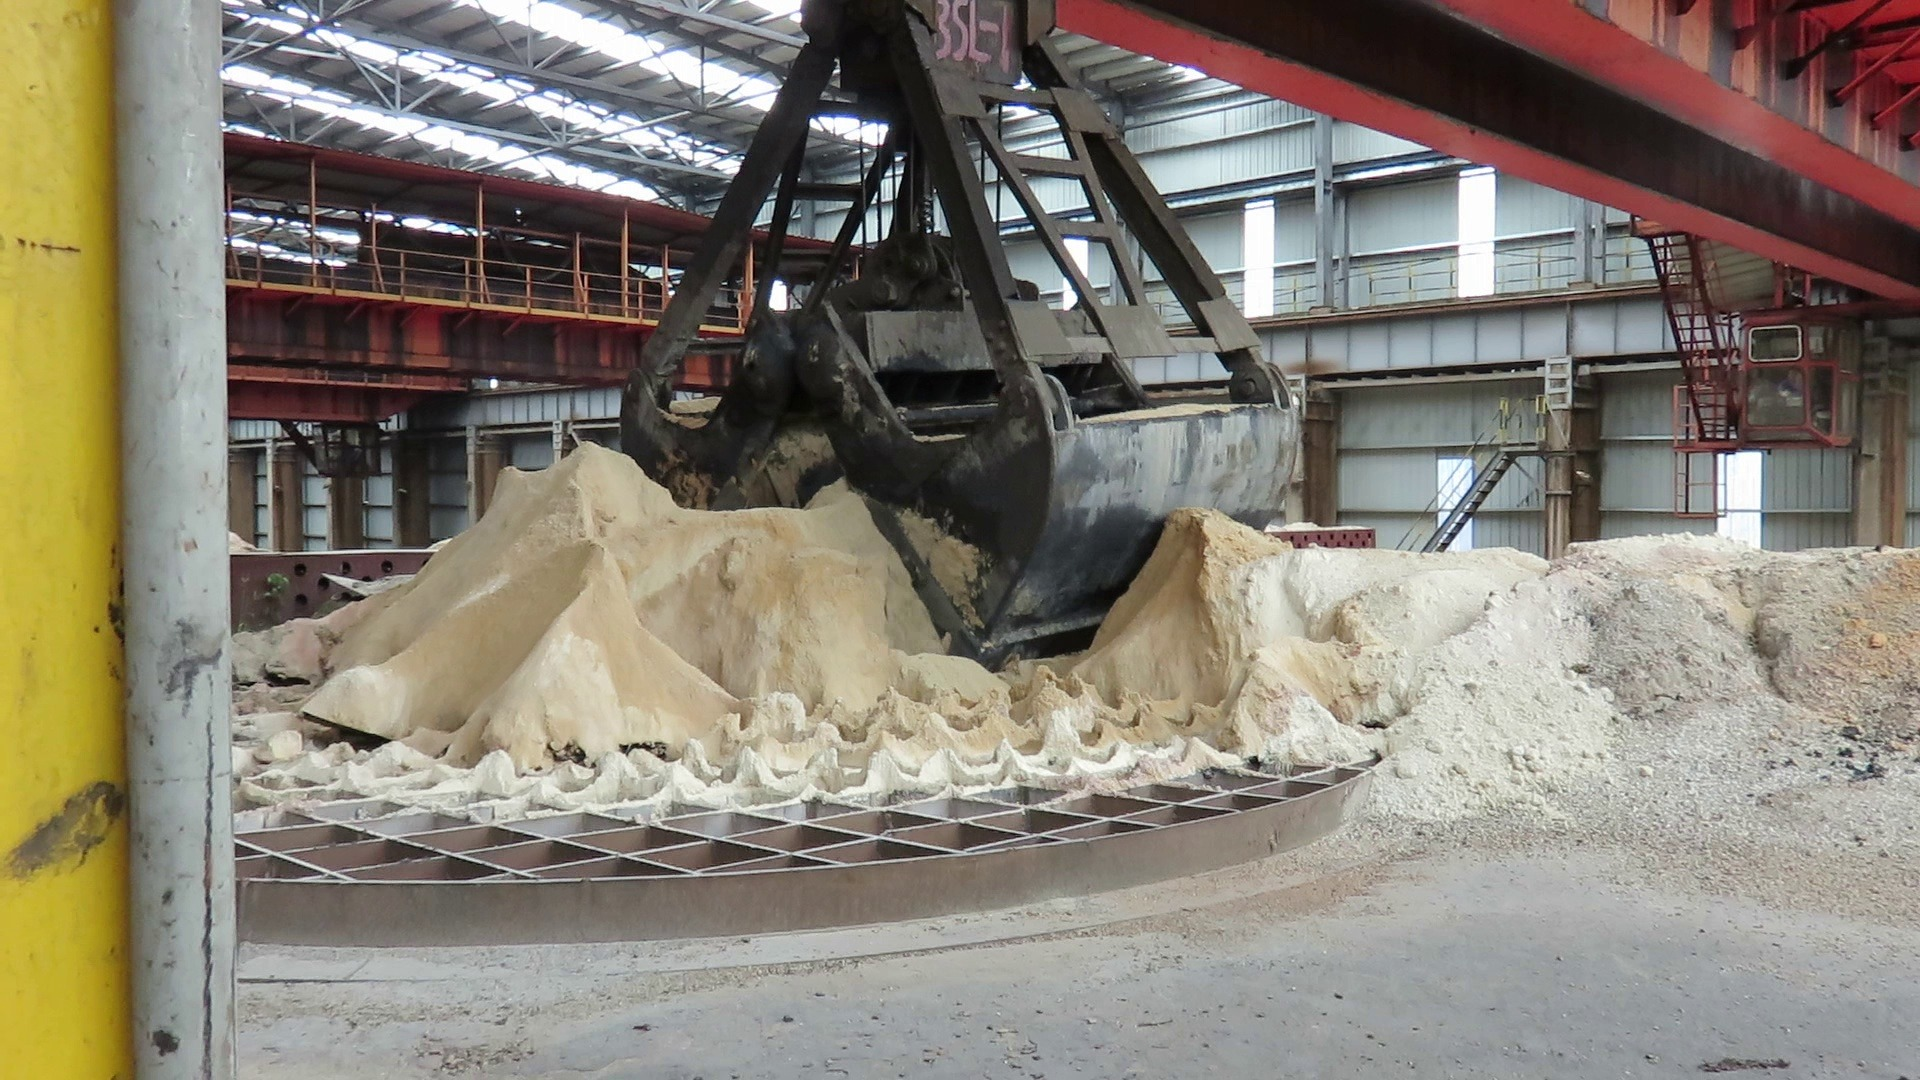grab: (603, 0, 1307, 675)
